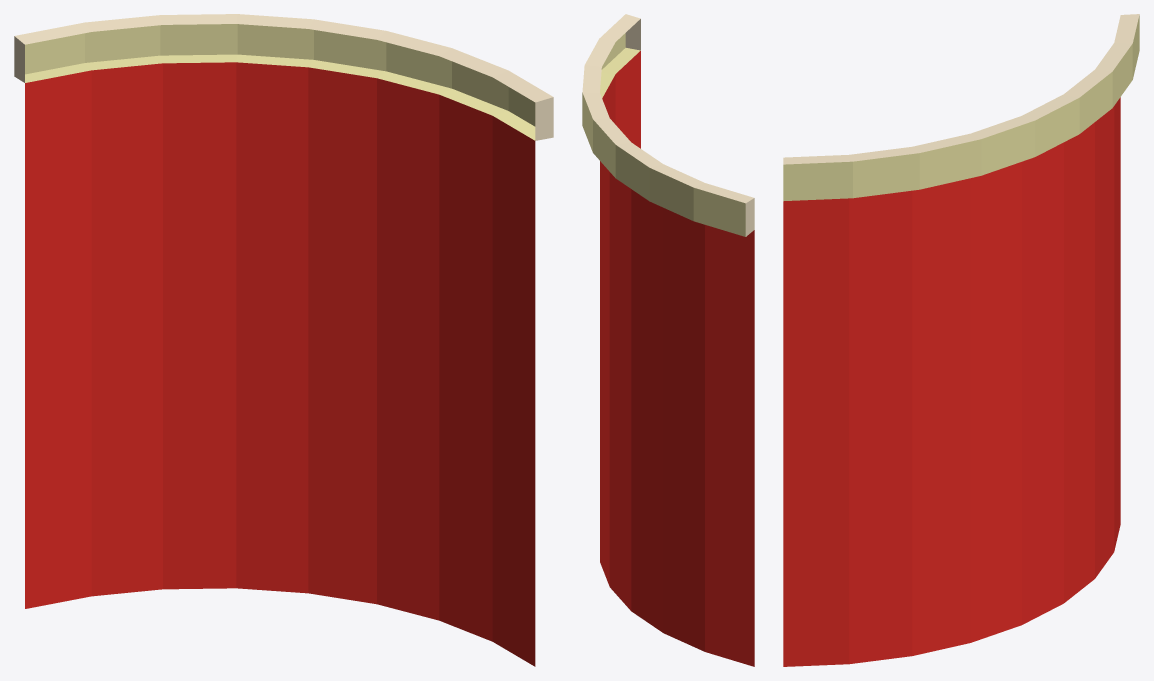
Rendered from SiloMiddle.fbx.
3 renders of one model, left to right at view 1: azimuth 30°, elevation 25°; view 2: azimuth 150°, elevation 25°; view 3: azimuth 270°, elevation 25°, orthographic. The views are drawn at different scales.
Parts seen in each view (by area): view 1: SiloMiddle; view 2: SiloMiddle; view 3: SiloMiddle.
Boxes of the visible parts, x1=… form: SiloMiddle: x1=14, y1=14, x2=553, y2=666; SiloMiddle: x1=582, y1=14, x2=754, y2=666; SiloMiddle: x1=783, y1=14, x2=1139, y2=666.
Bounding box in the file's own units: 127 × 200 × 127.
